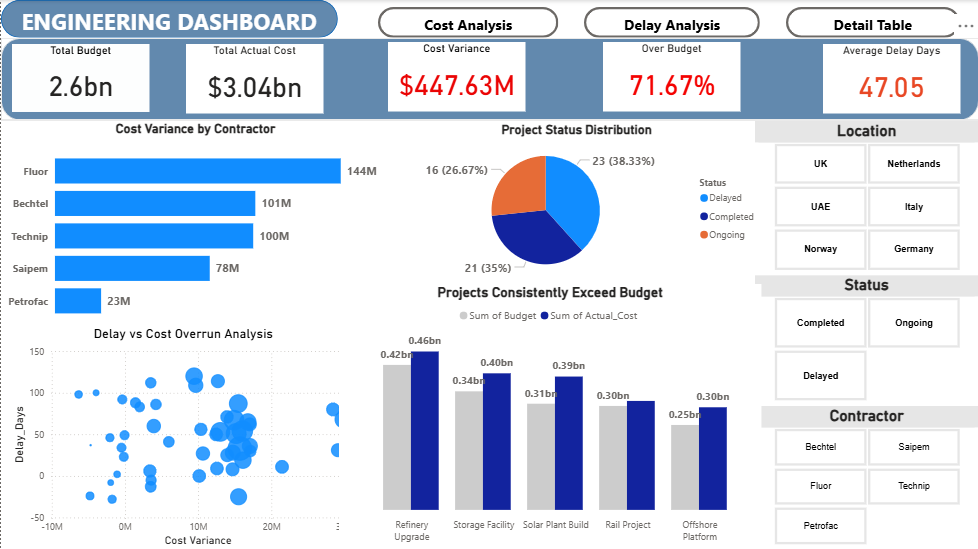

What the dashboard file says about the page in this screenshot:
{"tool":"powerbi","page":{"name":"Overview","canvas":[1280,720],"ordinal":0},"visuals":[{"type":"shape","box":[0,49.4,1280,108],"z":0,"group":"g3"},{"type":"scatterChart","title":"Delay vs Cost Overrun Analysis","fields":{"X":["enhanced_engineering_dataset.Cost Variance"],"Y":["enhanced_engineering_dataset.Delay_Days"],"Size":["enhanced_engineering_dataset.variance %"]},"box":[10.1,426.2,456.5,293.8],"z":0},{"type":"shape","box":[0,0,440.8,49.4],"z":1000},{"type":"card","title":"Total Budget","fields":{"Values":["enhanced_engineering_dataset.Total Budget"]},"box":[14.4,56.6,180,89.3],"z":1000,"group":"g3"},{"type":"card","title":"Total Actual Cost","fields":{"Values":["enhanced_engineering_dataset.Total Actual Cost"]},"box":[241.9,56.6,180,90.7],"z":2000,"group":"g3"},{"type":"actionButton","title":"Overview","box":[493.9,8.6,236.2,40.3],"z":3000},{"type":"card","title":"Cost Variance","fields":{"Values":["enhanced_engineering_dataset.Cost Variance"]},"box":[506.9,55.2,180,90.7],"z":3000,"group":"g3"},{"type":"slicer","title":"Status","fields":{"Values":["enhanced_engineering_dataset.Status"]},"box":[987.5,359.8,292.4,171.5],"z":3000,"group":"g1"},{"type":"actionButton","title":"Overview","box":[1028.2,8.6,227.5,40.3],"z":4000},{"type":"card","title":"Average Delay Days","fields":{"Values":["enhanced_engineering_dataset.Avg Delay Days"]},"box":[1075.7,56.6,180,90.7],"z":4000,"group":"g3"},{"type":"slicer","title":"Contractor","fields":{"Values":["enhanced_engineering_dataset.Contractor"]},"box":[987.5,531.2,292.5,187.9],"z":4000,"group":"g1"},{"type":"actionButton","title":"Overview","box":[763.2,8.6,230.4,40.3],"z":5000},{"type":"card","title":"Over Budget","fields":{"Values":["enhanced_engineering_dataset.Over Budget %"]},"box":[787.7,55.2,180,90.7],"z":5000,"group":"g3"},{"type":"slicer","title":"Location","fields":{"Values":["enhanced_engineering_dataset.Location"]},"box":[987.8,158.4,292.3,201.6],"z":5000,"group":"g1"},{"type":"pieChart","title":"Project Status Distribution","fields":{"Category":["enhanced_engineering_dataset.Status"],"Y":["CountNonNull(enhanced_engineering_dataset.Project_ID)"]},"box":[506.9,159.8,493.9,211.7],"z":6000},{"type":"group","id":"g1","title":"Group 2","box":[987.5,158.4,292.6,560.7],"z":7000},{"type":"barChart","fields":{"Category":["enhanced_engineering_dataset.Contractor"],"Y":["enhanced_engineering_dataset.Cost Variance"]},"box":[2.9,158.4,504,275],"z":8000},{"type":"clusteredColumnChart","title":"Projects Consistently Exceed Budget","fields":{"Category":["enhanced_engineering_dataset.Project_Name"],"Y":["Sum(enhanced_engineering_dataset.Budget)","Sum(enhanced_engineering_dataset.Actual_Cost)"]},"box":[442.1,371.5,553,347],"z":9000},{"type":"group","id":"g2","title":"Group 1","box":[0,49.4,1280,107.4],"z":9001},{"type":"group","id":"g3","title":"Group 3","box":[0,49.4,1280,108],"z":11002,"group":"g2"}]}

Visuals, with their boxes in screenshot pixels (x1, y1, x2, y2), scaled from the page's 1280x720 canvas onto the 978x549 screenshot:
shape: <bbox>0, 38, 977, 120</bbox>
"Delay vs Cost Overrun Analysis" scatterChart: <bbox>8, 325, 357, 548</bbox>
shape: <bbox>0, 0, 337, 38</bbox>
"Total Budget" card: <bbox>11, 43, 149, 111</bbox>
"Total Actual Cost" card: <bbox>185, 43, 322, 112</bbox>
"Overview" actionButton: <bbox>377, 7, 558, 37</bbox>
"Cost Variance" card: <bbox>387, 42, 525, 111</bbox>
"Status" slicer: <bbox>755, 274, 977, 405</bbox>
"Overview" actionButton: <bbox>786, 7, 959, 37</bbox>
"Average Delay Days" card: <bbox>822, 43, 959, 112</bbox>
"Contractor" slicer: <bbox>755, 405, 977, 548</bbox>
"Overview" actionButton: <bbox>583, 7, 759, 37</bbox>
"Over Budget" card: <bbox>602, 42, 739, 111</bbox>
"Location" slicer: <bbox>755, 121, 977, 274</bbox>
"Project Status Distribution" pieChart: <bbox>387, 122, 765, 283</bbox>
"Group 2" group: <bbox>755, 121, 977, 548</bbox>
barChart - enhanced_engineering_dataset.Contractor x enhanced_engineering_dataset.Cost Variance: <bbox>2, 121, 387, 330</bbox>
"Projects Consistently Exceed Budget" clusteredColumnChart: <bbox>338, 283, 760, 548</bbox>
"Group 1" group: <bbox>0, 38, 977, 120</bbox>
"Group 3" group: <bbox>0, 38, 977, 120</bbox>
